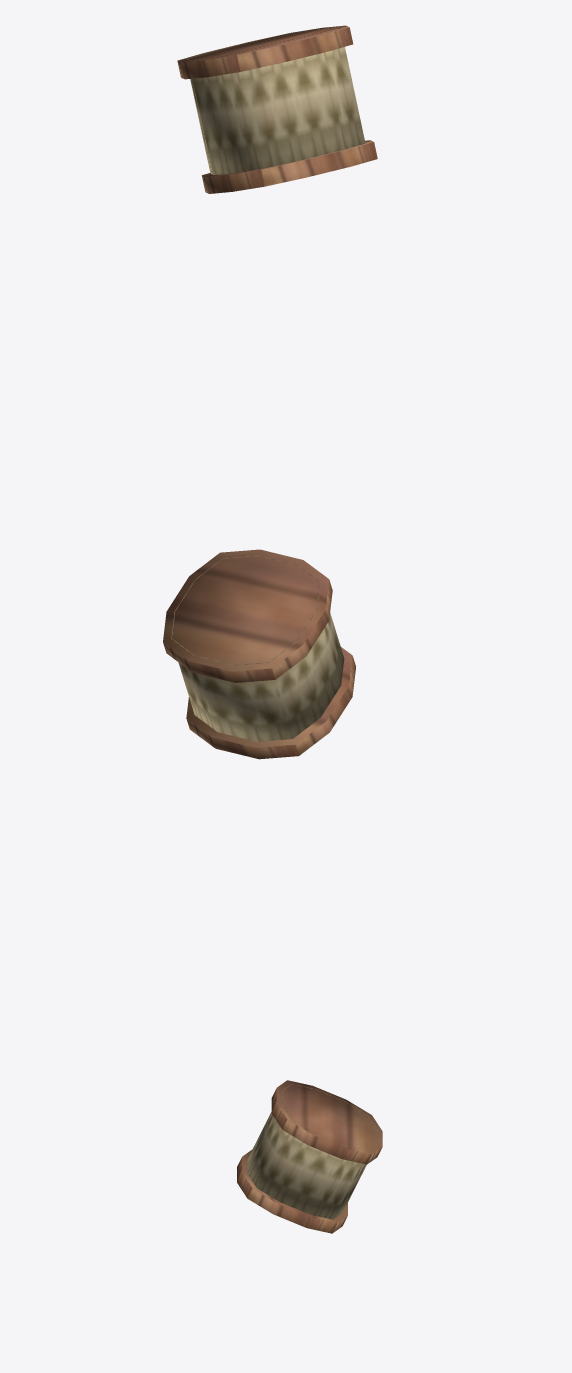
File: helmet_ari_1.dae
3 views of the same model, one above another, from view 1: azimuth 30°, elevation 25°; view 2: azimuth 150°, elevation 25°; view 3: azimuth 270°, elevation 25° (orthographic). The views are drawn at different scales.
Parts seen in each view (by area): view 1: helmet_ari_1; view 2: helmet_ari_1; view 3: helmet_ari_1.
Boxes of the visible parts, x1,y1,x2,y2 form: helmet_ari_1: [177, 25, 377, 193]; helmet_ari_1: [163, 549, 355, 759]; helmet_ari_1: [237, 1080, 382, 1233].
Size of the model in its own units: 0.7238 by 2.5 by 1.52.
